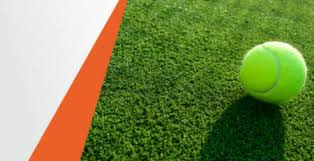tennis_ball: (239, 41, 307, 106)
